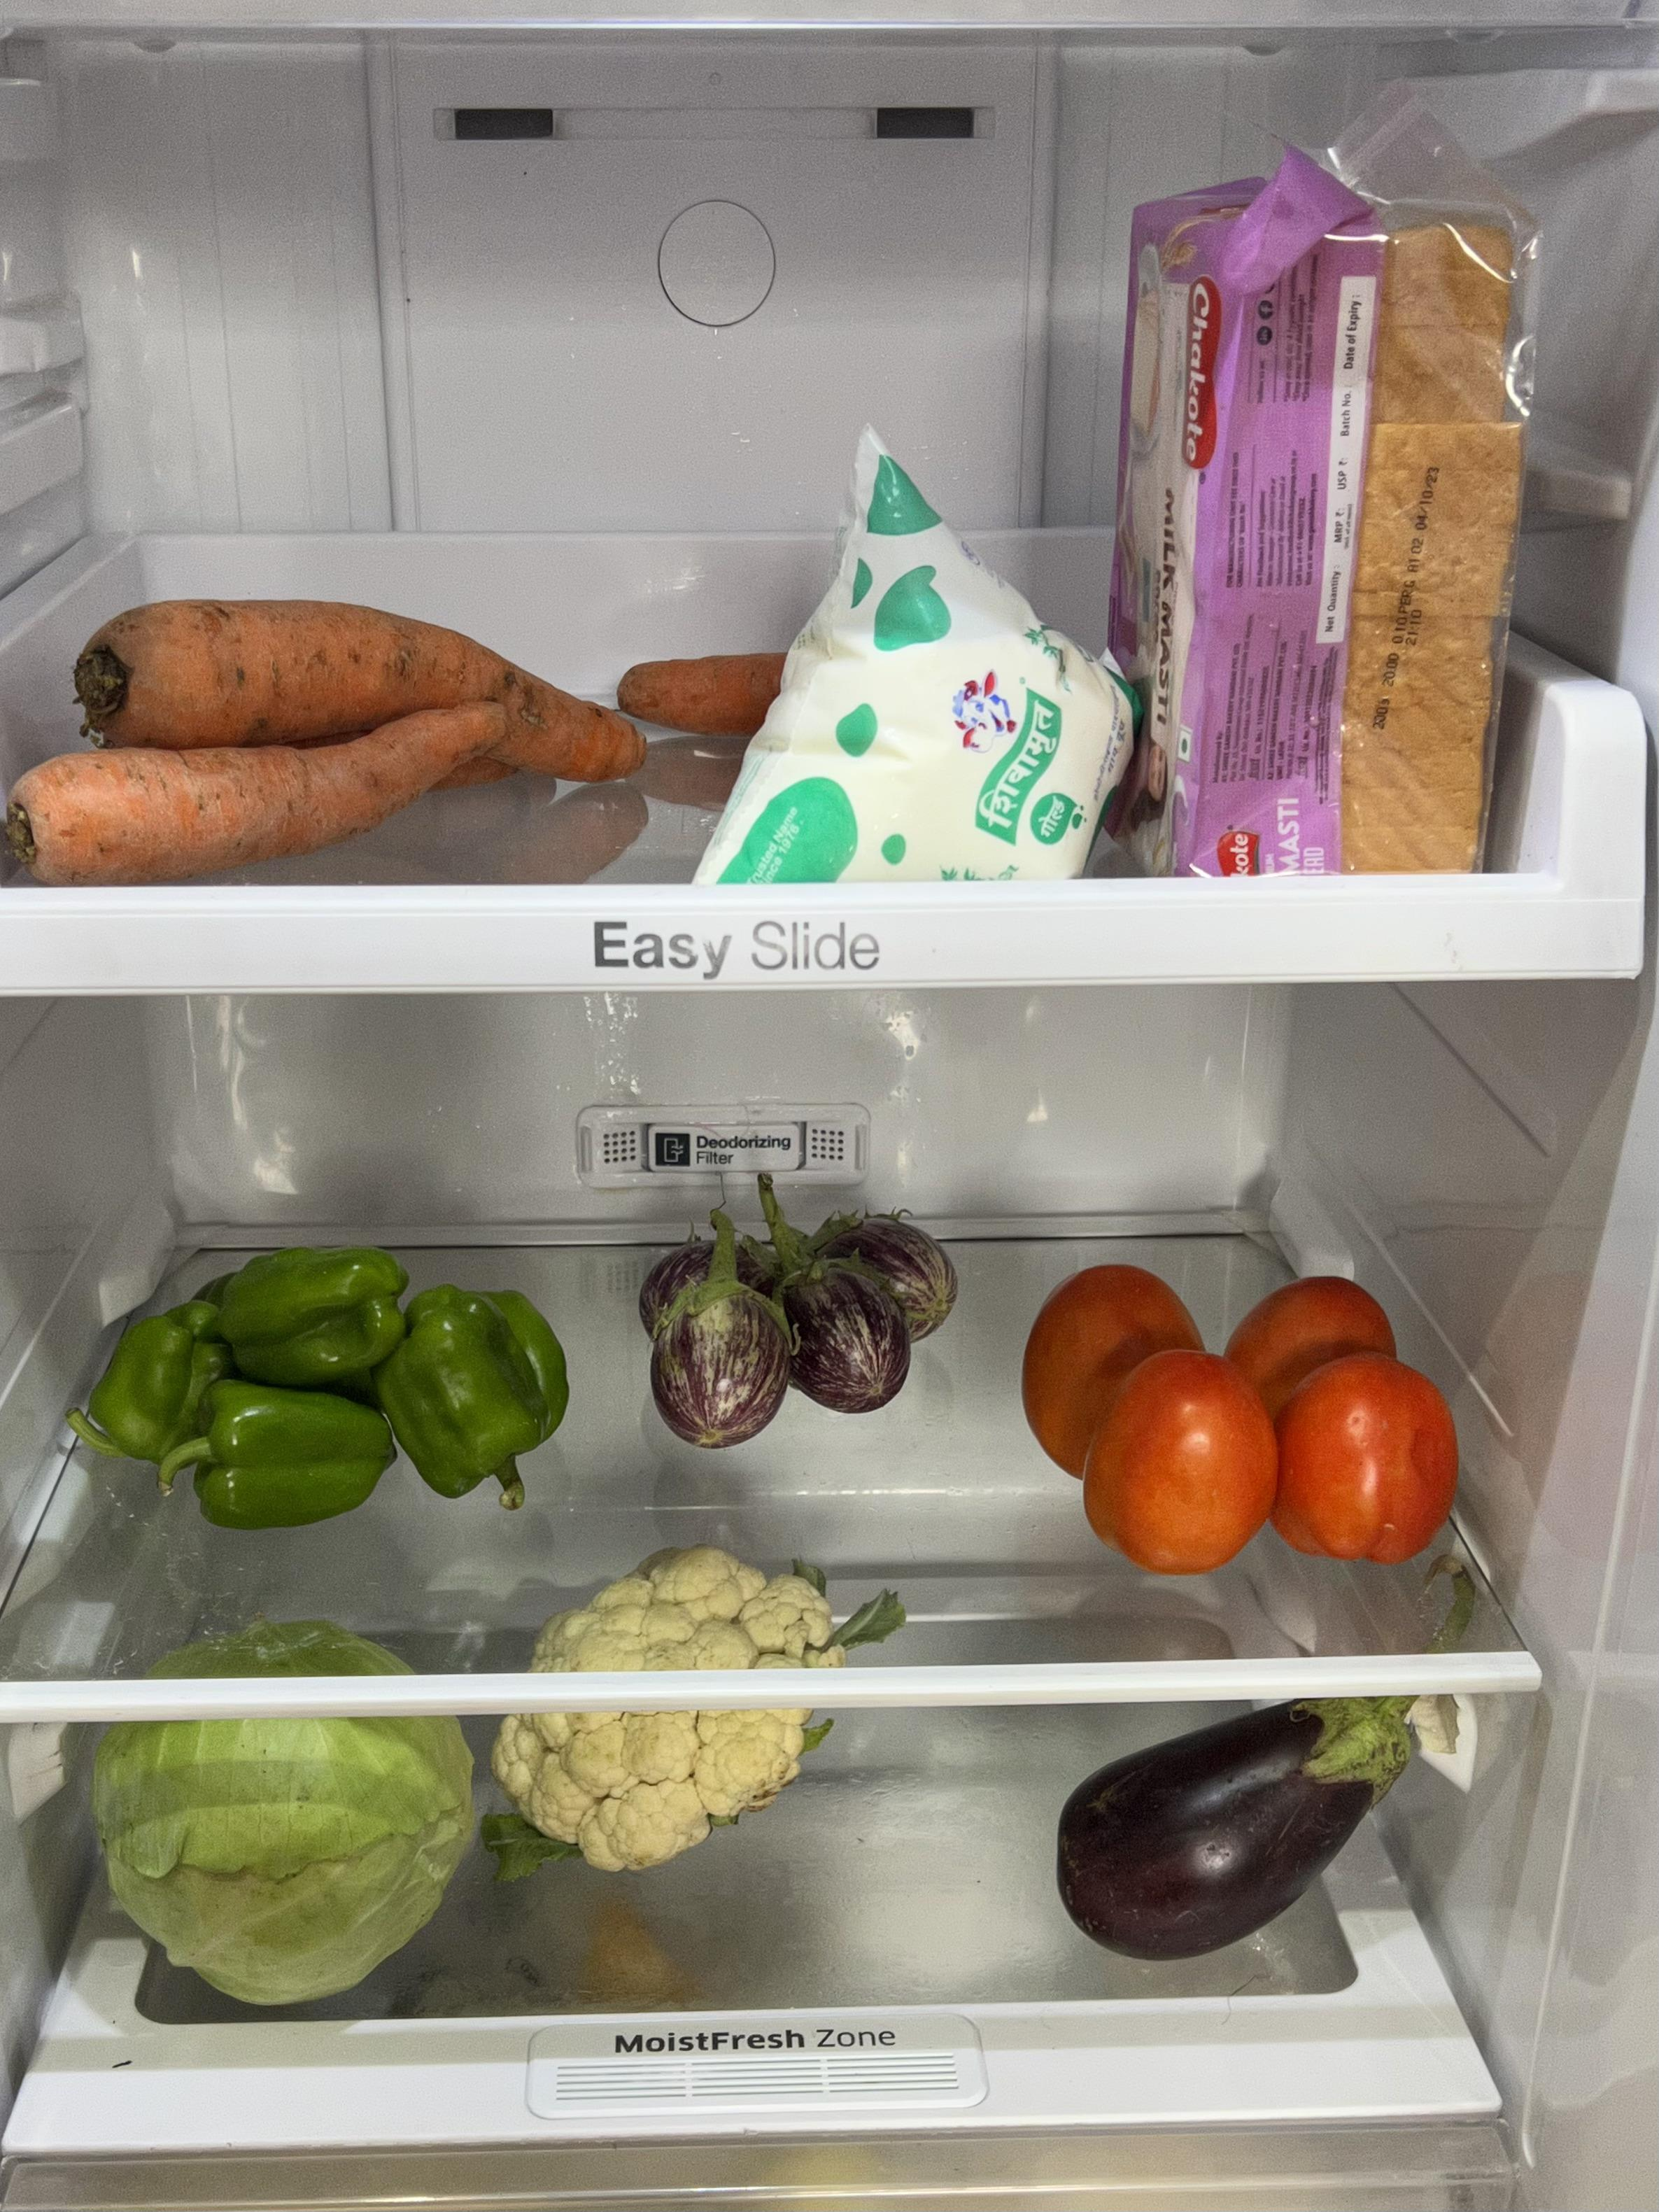bread: (1147, 162, 1496, 852)
bringal: (1040, 1682, 1421, 1958), (626, 1188, 961, 1444)
cabbage: (113, 1647, 479, 1994)
capsicum: (68, 1201, 547, 1533)
carrots: (12, 554, 651, 880)
cauliflower: (540, 1579, 872, 1851)
milk: (741, 487, 1110, 894)
tomato: (1036, 1237, 1421, 1572)
